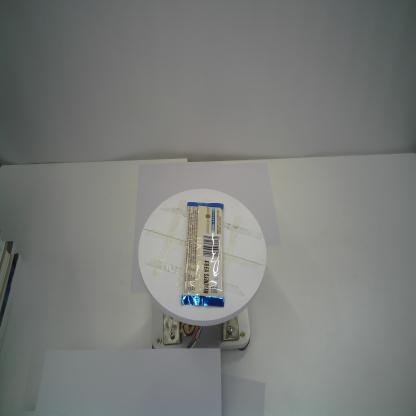Chocolate: (181, 202, 225, 308)
